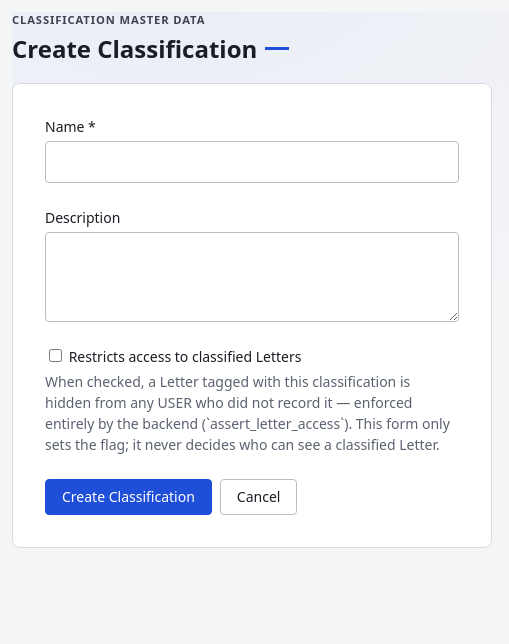
Scenario: ClassificationCreatePage › shows a duplicate-name conflict from the backend
The image size is (509, 644).
Type "Confidential" into the field labelled "Name *". click: (252, 162)
box: [45, 141, 459, 183]
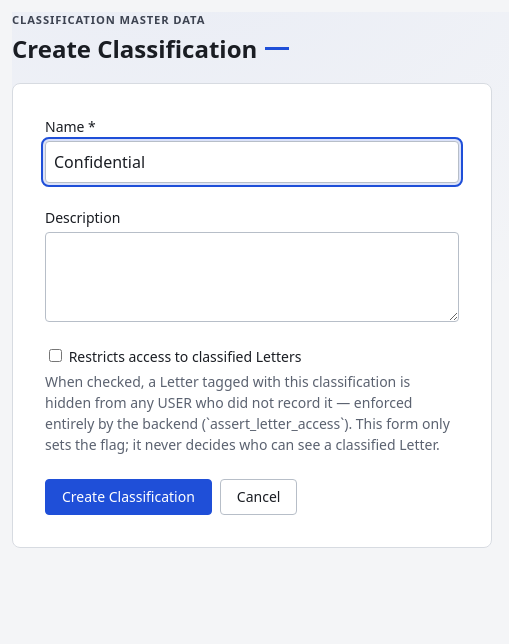
Click the button "Create Classification". click: click(128, 497)
box: [45, 479, 212, 515]
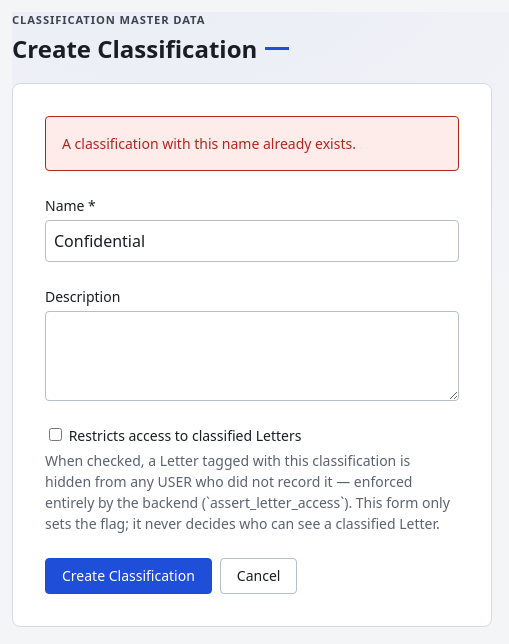
Result: the message shows "already exists" at [62, 134, 356, 153]
